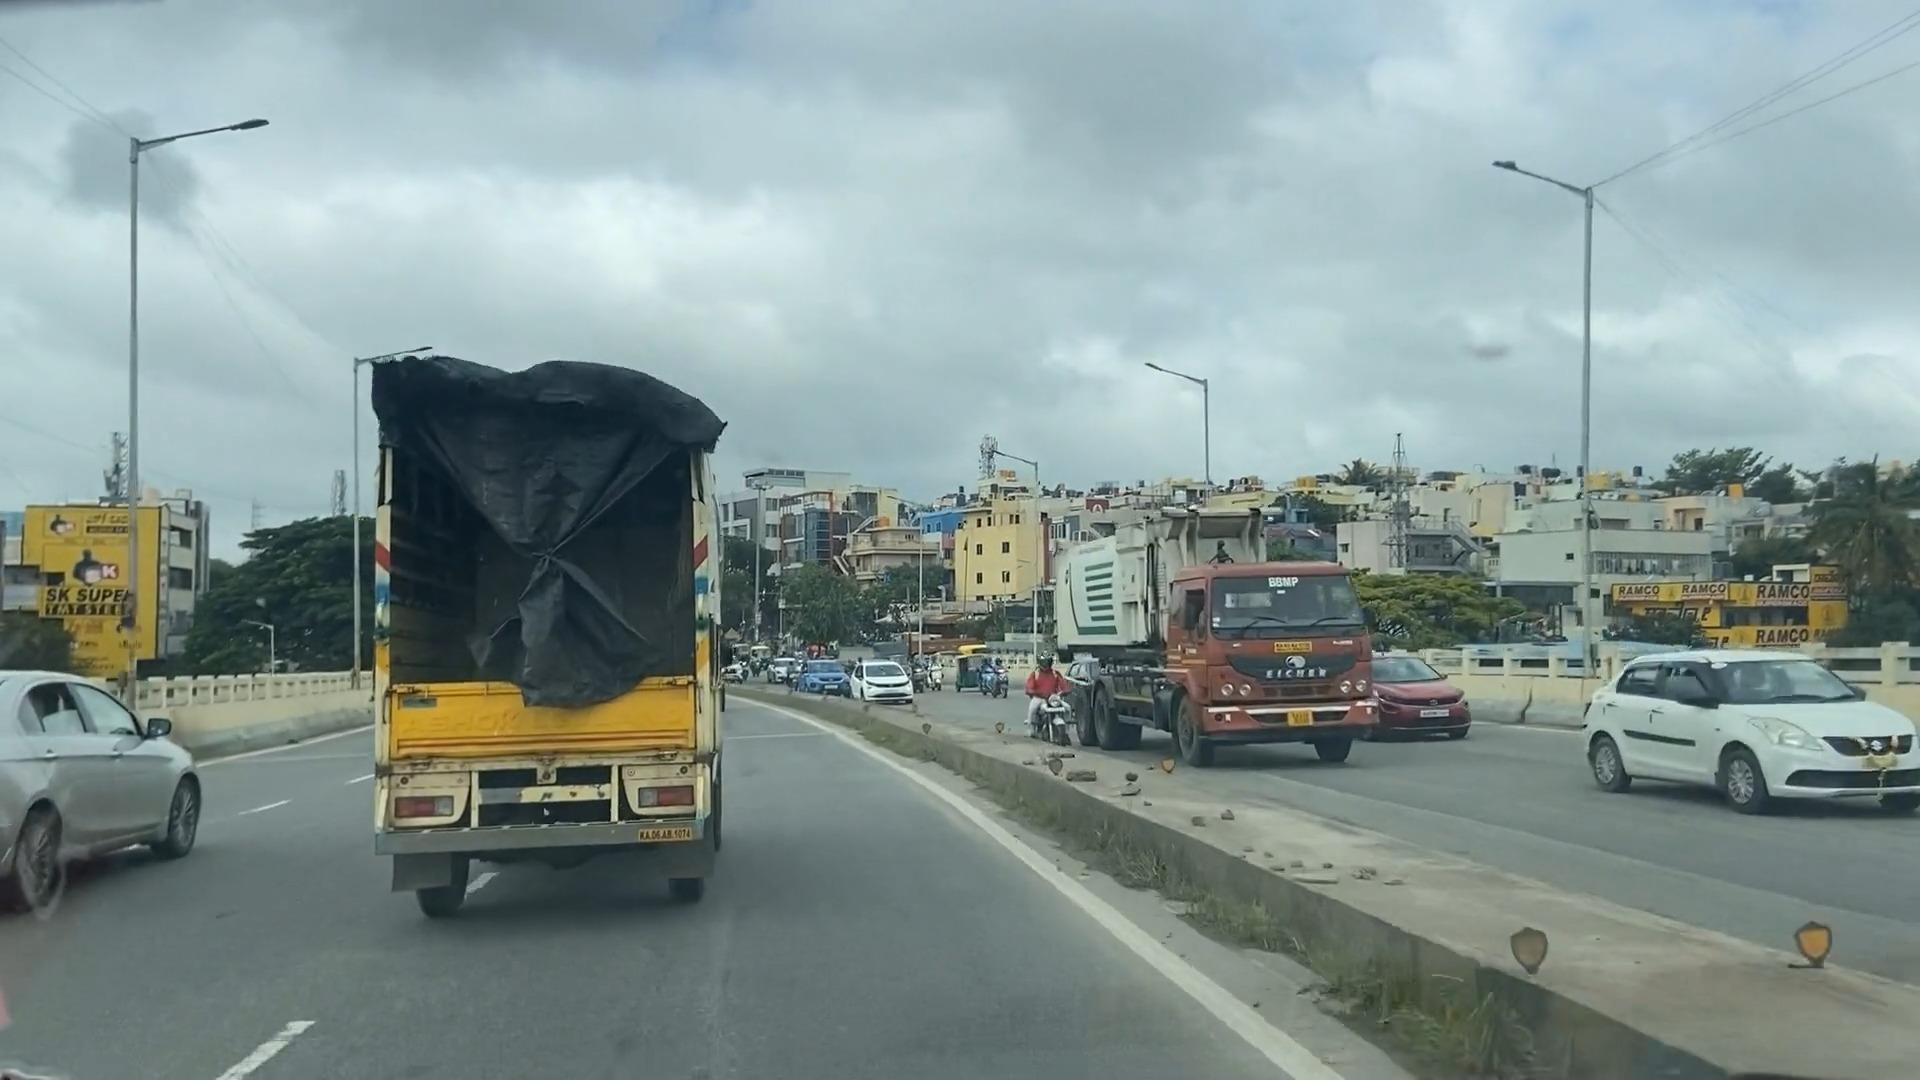HMV: (340, 348, 732, 920), (1062, 487, 1379, 765)
